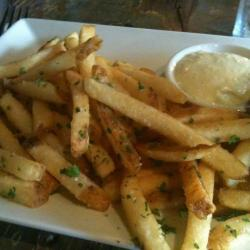cream: (165, 36, 250, 111)
fries: (3, 43, 247, 237)
